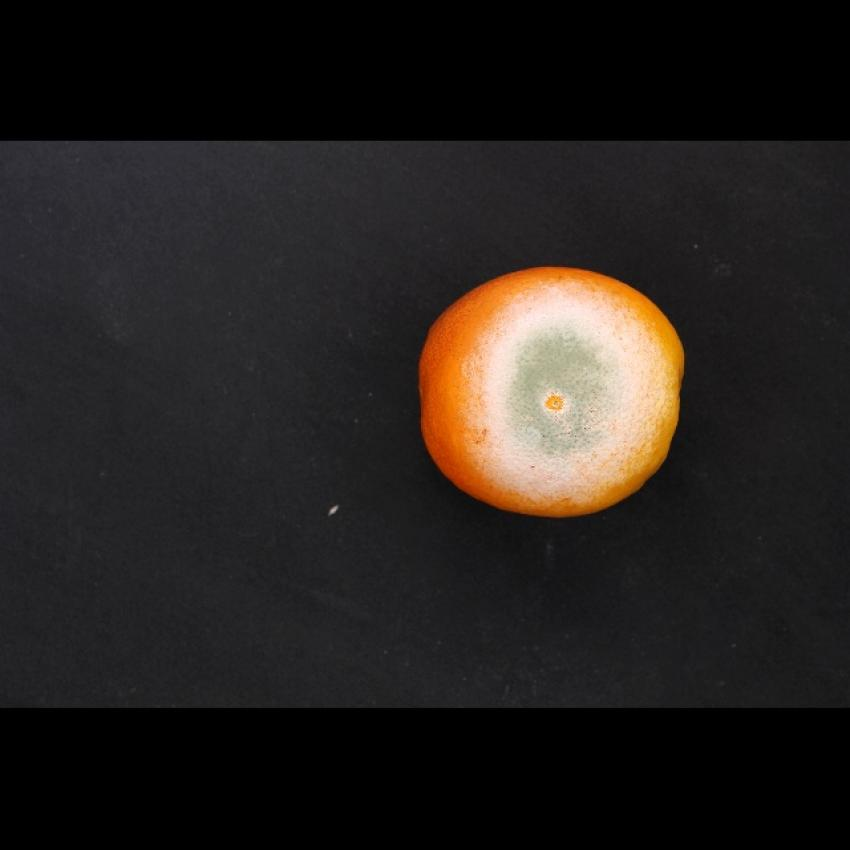Mal estado: (405, 256, 696, 524)
